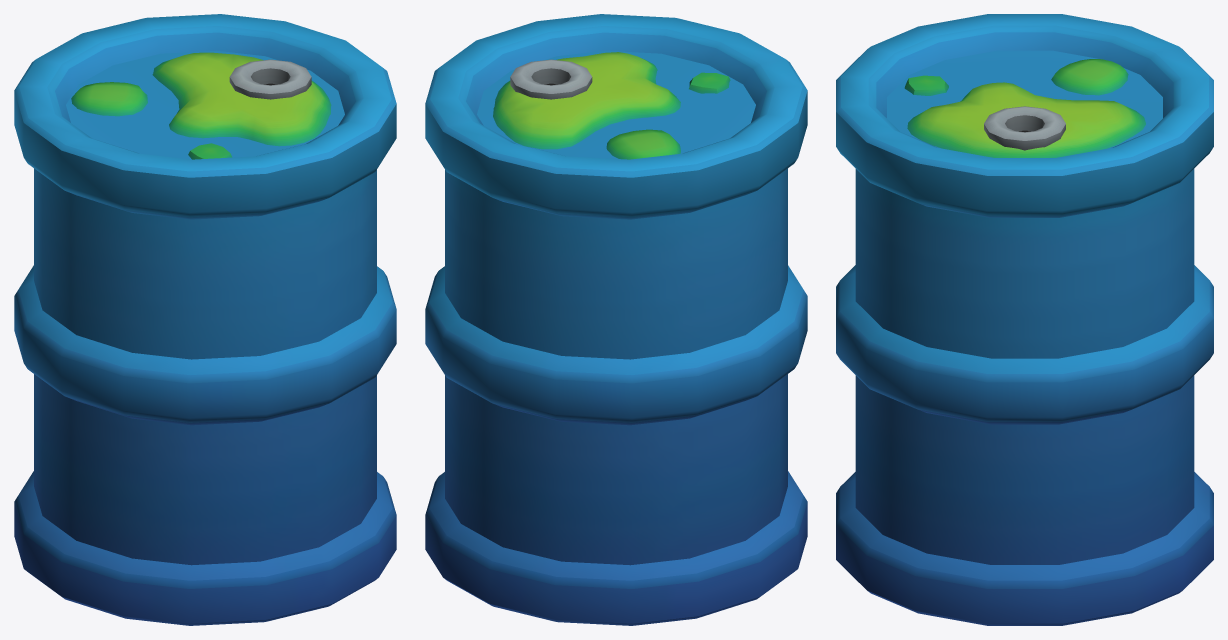
File: fuel_c_barrel_dirty.glb
3 renders of one model, left to right at view 1: azimuth 30°, elevation 25°; view 2: azimuth 150°, elevation 25°; view 3: azimuth 270°, elevation 25°, orthographic.
Parts seen in each view (by area): view 1: Fuel_C_Barrel_Dirty; view 2: Fuel_C_Barrel_Dirty; view 3: Fuel_C_Barrel_Dirty.
Boxes of the visible parts, <box> form: Fuel_C_Barrel_Dirty: <box>14,14,396,625</box>; Fuel_C_Barrel_Dirty: <box>425,14,807,625</box>; Fuel_C_Barrel_Dirty: <box>836,14,1213,625</box>.
Size of the model in its own units: 0.7501 by 1.01 by 0.7501.
1 material, 1 textured.
